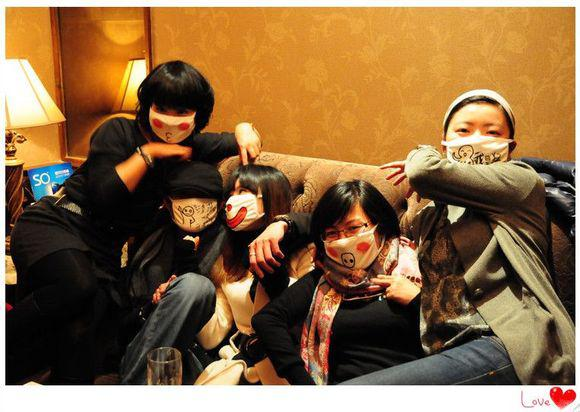OK: (448, 123, 509, 177), (326, 217, 378, 269), (171, 184, 223, 233), (153, 99, 195, 141), (227, 189, 265, 234)
